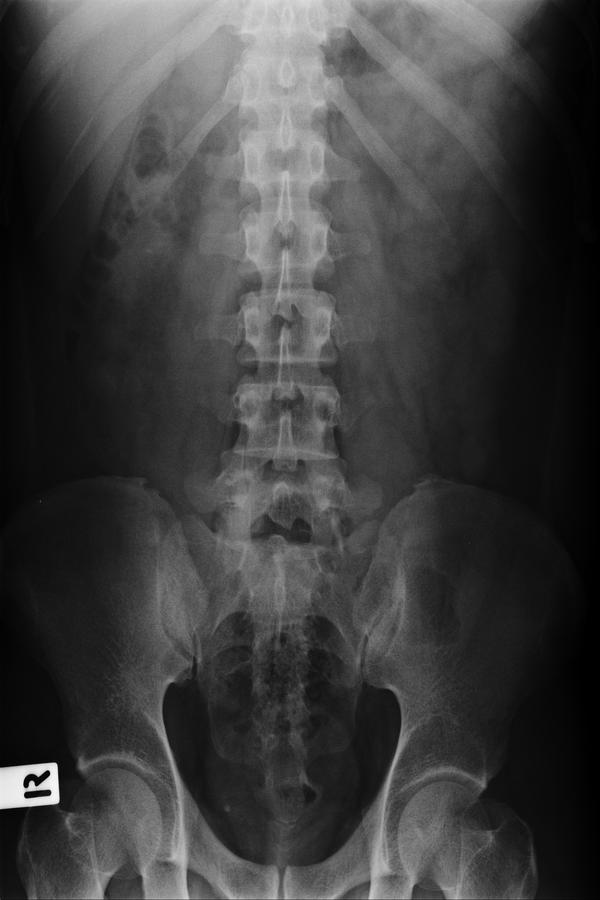lumbar scoliosis: (221, 12, 348, 580)
